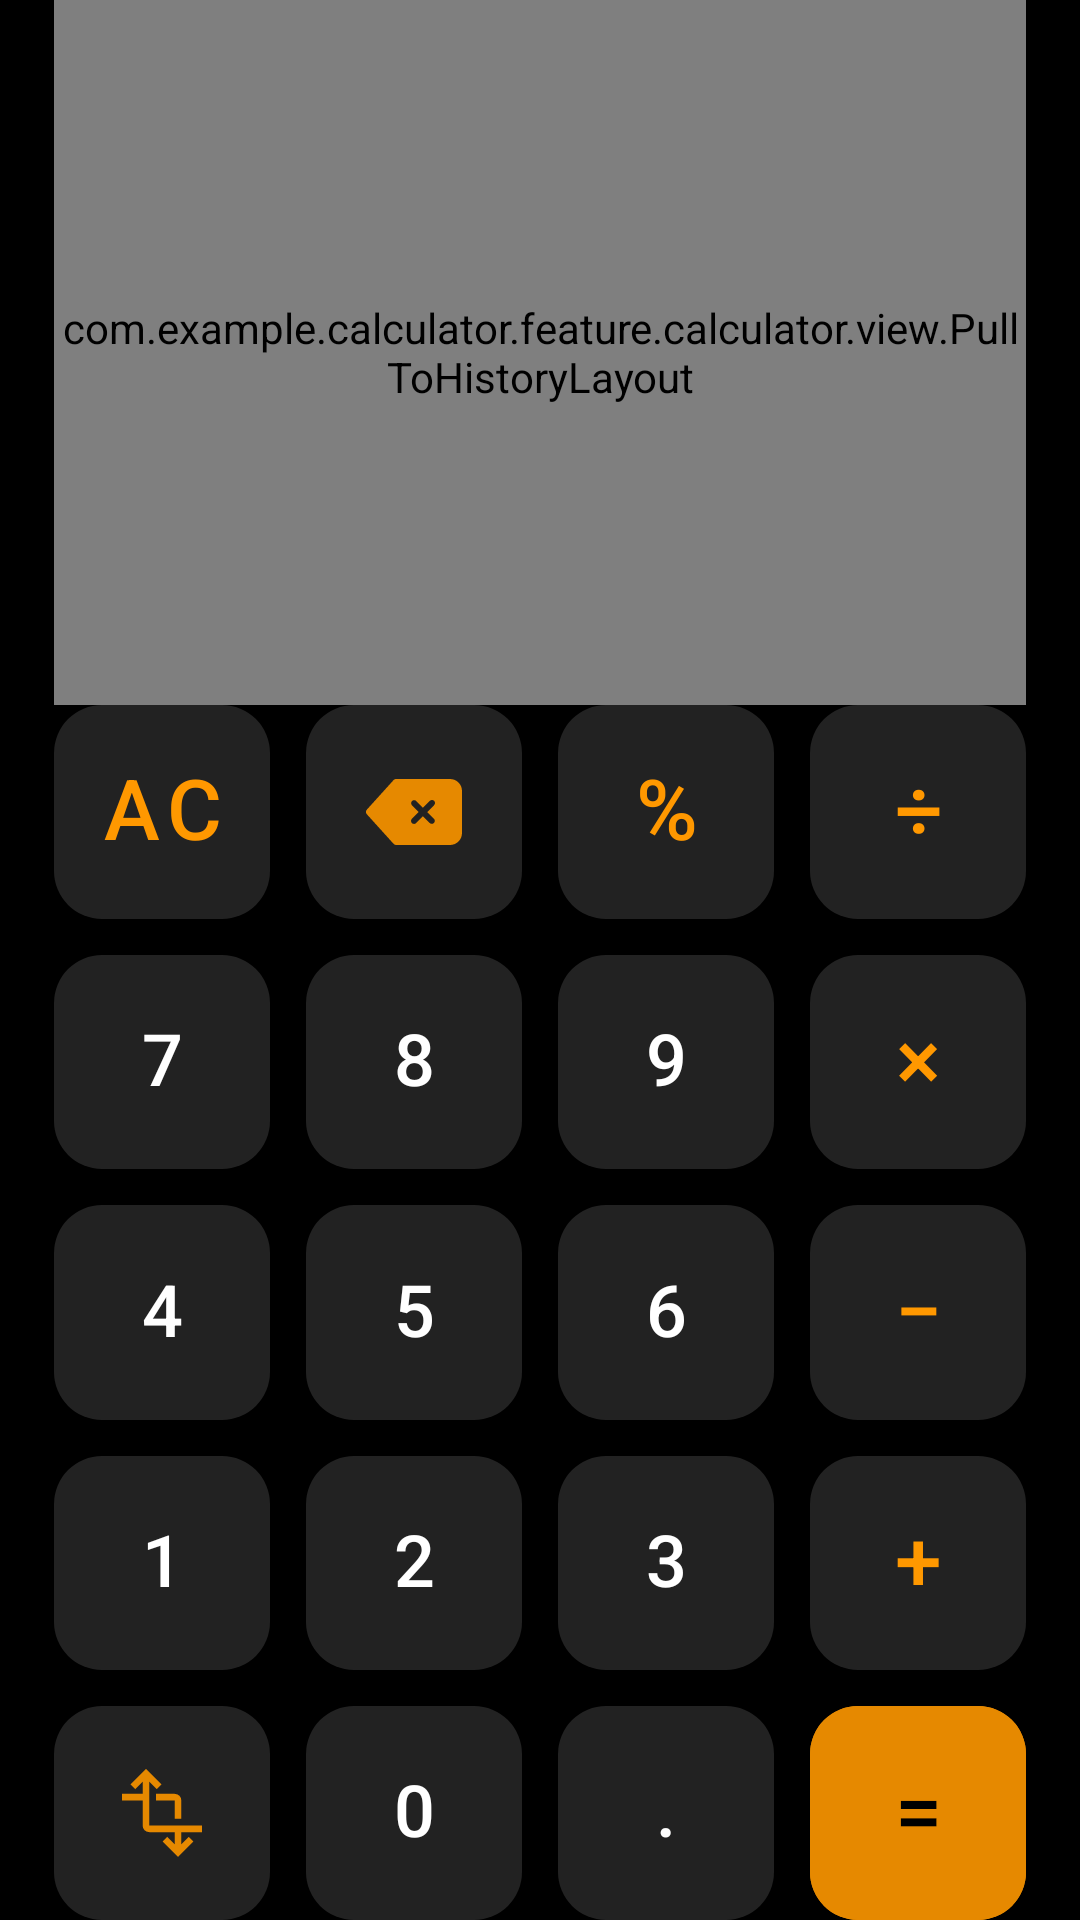

Where to tap for icons on this 1080x1920 app screen, as (x,y):
Открыть дополнительные функции: (162,1813)
Удалить: (414,812)
